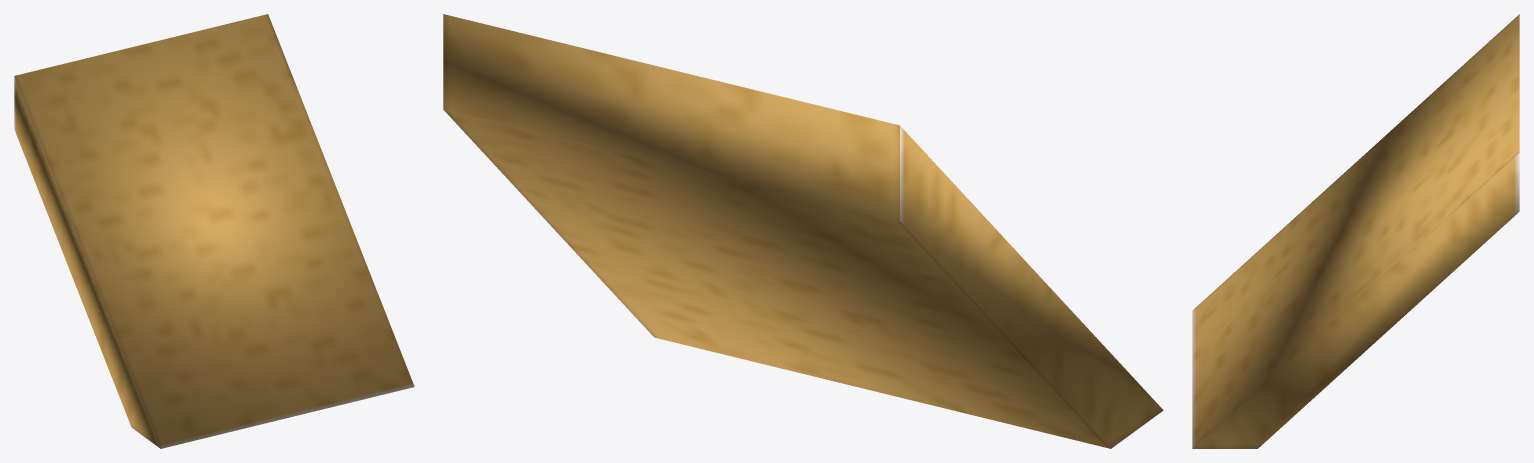
The model's file is rampabarcogriegodef.fbx.
The picture shows the model from 3 angles, left to right: view 1: azimuth 30°, elevation 25°; view 2: azimuth 150°, elevation 25°; view 3: azimuth 270°, elevation 25°; orthographic projection. The views are drawn at different scales.
Visible parts, largest first — view 1: Cube.001; view 2: Cube.001; view 3: Cube.001.
Boxes of the visible parts, bbox=[...] form: Cube.001: bbox=[14, 14, 414, 448]; Cube.001: bbox=[443, 14, 1163, 448]; Cube.001: bbox=[1192, 14, 1519, 448].
Bounding box in the file's own units: 1 × 1 × 1.
Materials: 1 (1 with a texture image).
